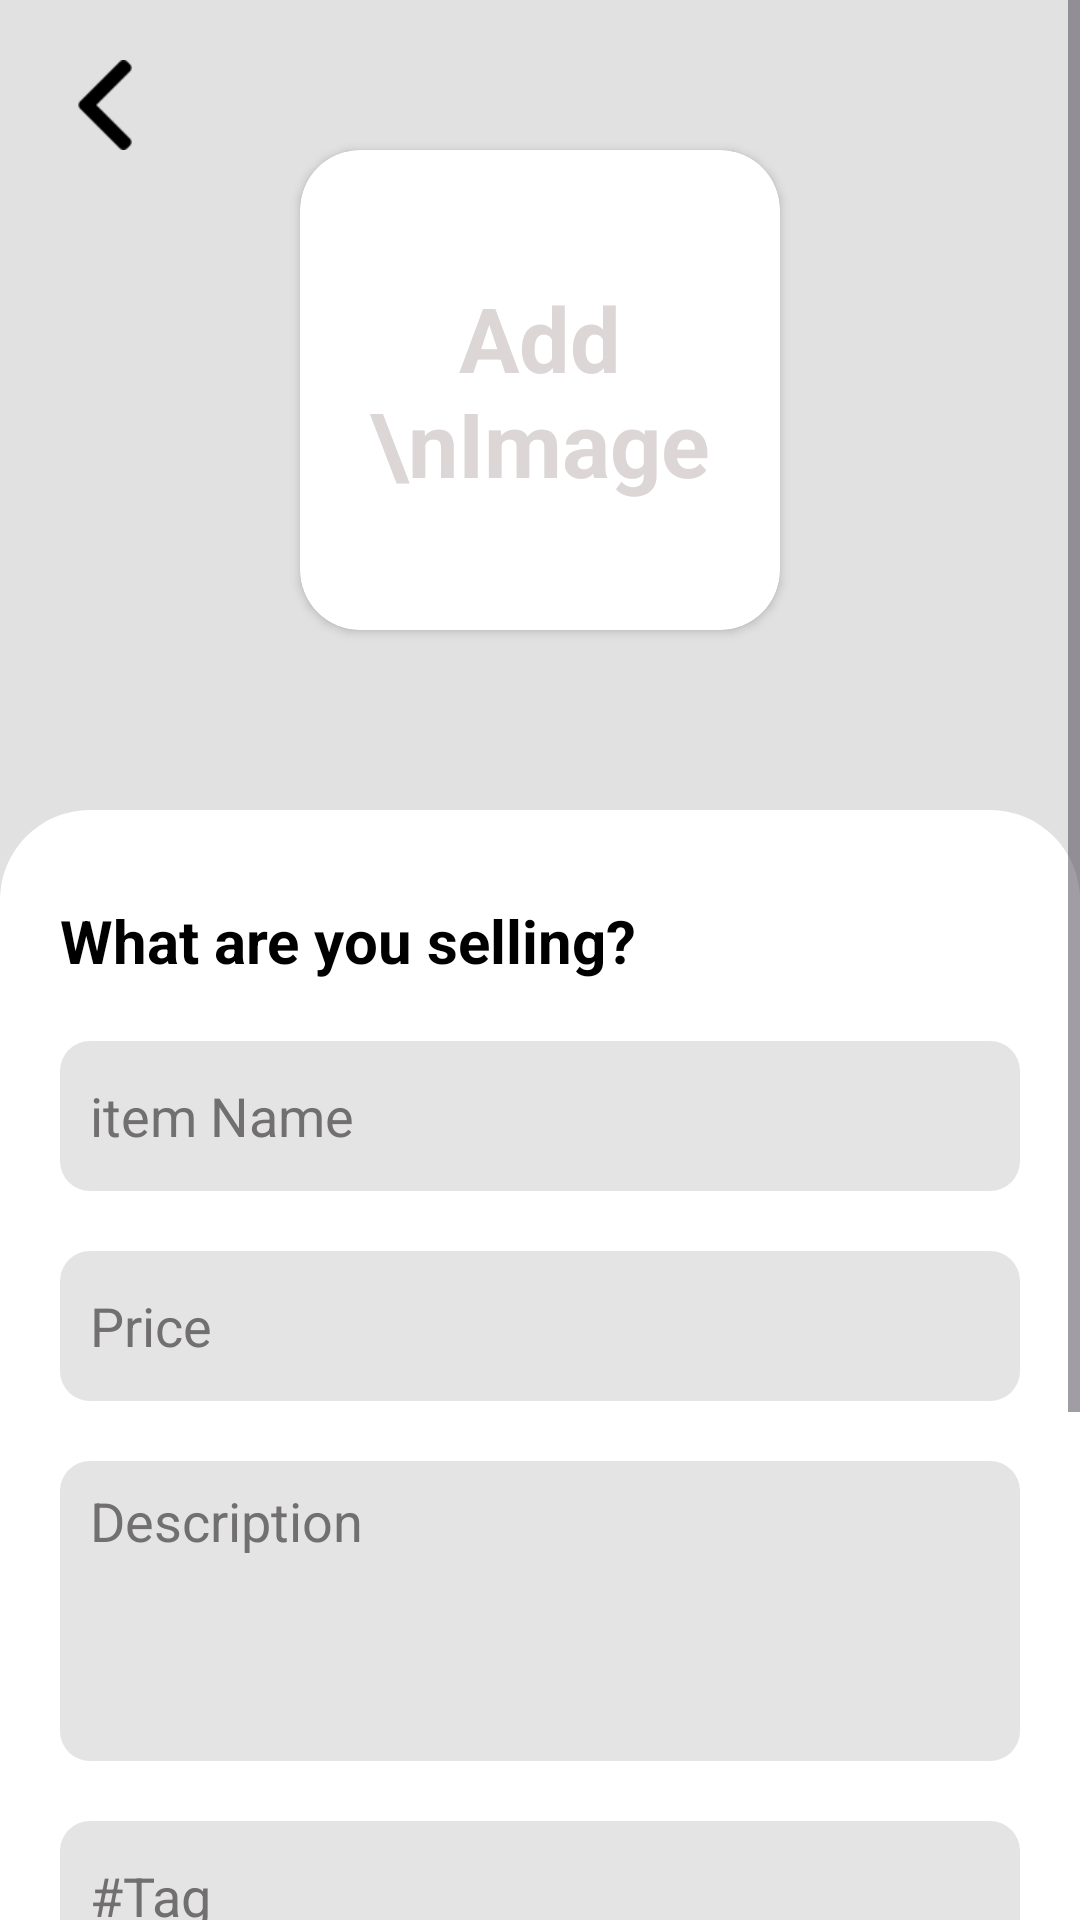

Icon click points for this 1080px x 1920px phone screenshot, format (x,y):
left arrow: (105,105)
